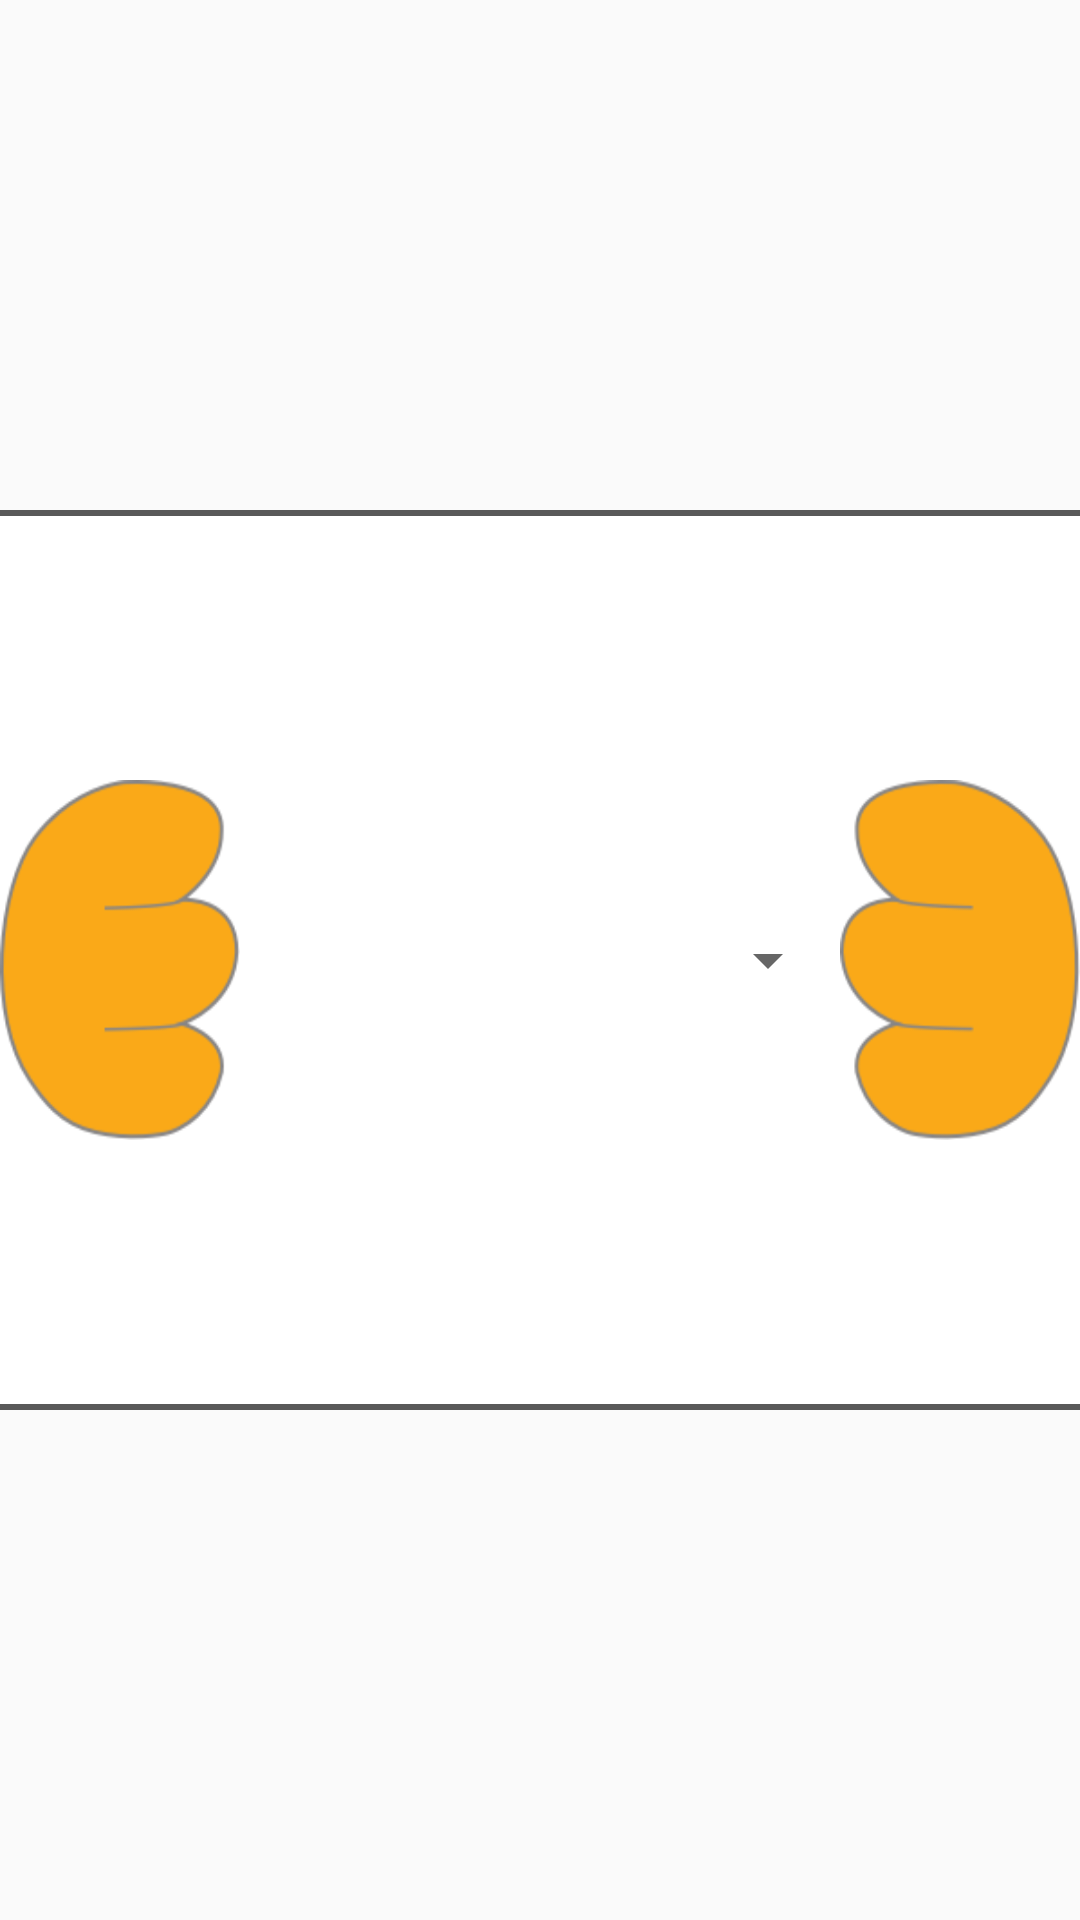

Icons on this 1080*1920 Android screen, each with its box as region(x1, y1, x2, y2):
left hand: region(0, 780, 239, 1140)
right hand: region(840, 780, 1079, 1140)
